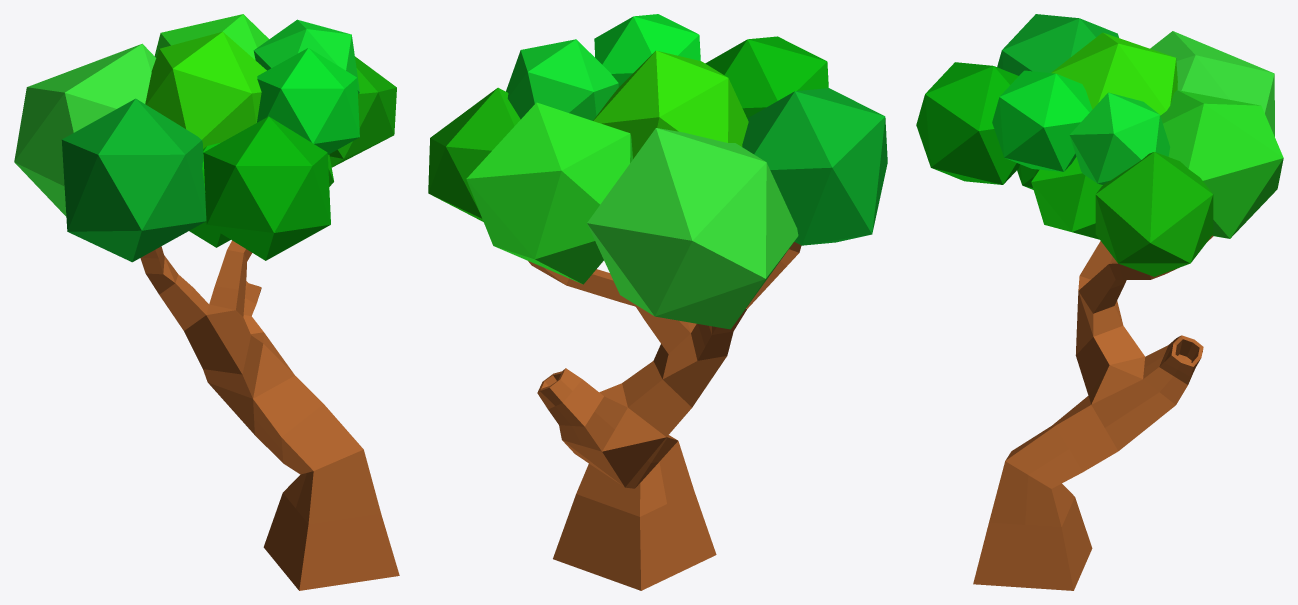
The model's file is asset.glb.
The picture shows the model from 3 angles, left to right: view 1: azimuth 30°, elevation 25°; view 2: azimuth 150°, elevation 25°; view 3: azimuth 270°, elevation 25°; orthographic projection. The views are drawn at different scales.
Parts seen in each view (by area): view 1: Cube, Icosphere005, Icosphere009, Icosphere002, Icosphere003, Icosphere008, Icosphere, Icosphere004, Icosphere001, Icosphere007; view 2: Cube, Icosphere002, Icosphere001, Icosphere005, Icosphere003, Icosphere004, Icosphere, Icosphere009, Icosphere008; view 3: Cube, Icosphere001, Icosphere, Icosphere009, Icosphere008, Icosphere003, Icosphere004, Icosphere002, Icosphere005, Icosphere006.
Part boxes in pixels (x1=…): Cube: x1=140, y1=240, x2=399, y2=590; Icosphere005: x1=61, y1=98, x2=206, y2=262; Icosphere009: x1=203, y1=116, x2=330, y2=260; Icosphere002: x1=14, y1=43, x2=156, y2=216; Icosphere003: x1=145, y1=31, x2=266, y2=148; Icosphere008: x1=257, y1=48, x2=359, y2=154; Icosphere: x1=329, y1=56, x2=396, y2=167; Icosphere004: x1=253, y1=19, x2=359, y2=93; Icosphere001: x1=154, y1=14, x2=268, y2=59; Icosphere007: x1=189, y1=142, x2=230, y2=247; Cube: x1=528, y1=242, x2=801, y2=590; Icosphere002: x1=587, y1=128, x2=798, y2=329; Icosphere001: x1=466, y1=102, x2=632, y2=284; Icosphere005: x1=742, y1=88, x2=887, y2=245; Icosphere003: x1=593, y1=50, x2=748, y2=158; Icosphere004: x1=506, y1=39, x2=618, y2=120; Icosphere: x1=428, y1=87, x2=520, y2=221; Icosphere009: x1=705, y1=36, x2=828, y2=118; Icosphere008: x1=594, y1=14, x2=700, y2=87; Cube: x1=973, y1=235, x2=1213, y2=590; Icosphere001: x1=1160, y1=90, x2=1283, y2=238; Icosphere: x1=1095, y1=152, x2=1213, y2=276; Icosphere009: x1=916, y1=62, x2=1019, y2=184; Icosphere008: x1=992, y1=70, x2=1092, y2=171; Icosphere003: x1=1051, y1=32, x2=1177, y2=115; Icosphere004: x1=1069, y1=92, x2=1170, y2=184; Icosphere002: x1=1150, y1=31, x2=1274, y2=136; Icosphere005: x1=997, y1=14, x2=1118, y2=75; Icosphere006: x1=1031, y1=157, x2=1102, y2=239.
Size of the model in its own units: 5.9 by 7.88 by 5.32.
